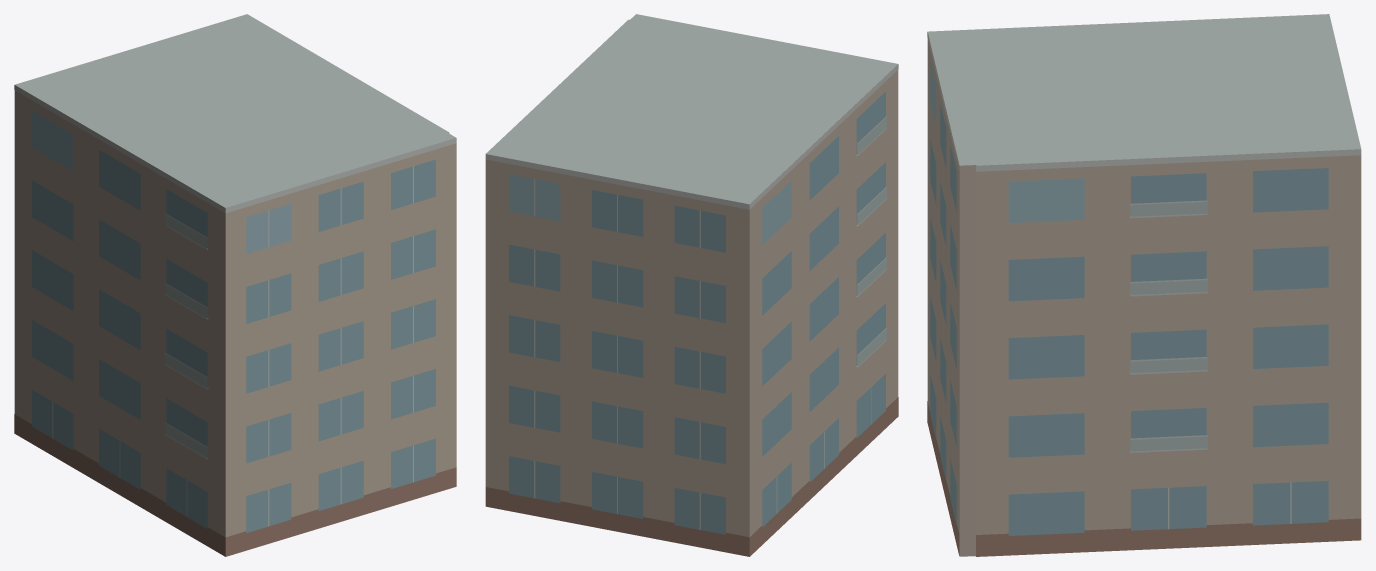
The model's file is survey-upis-32887748.glb.
3 renders of one model, left to right at view 1: azimuth 30°, elevation 25°; view 2: azimuth 150°, elevation 25°; view 3: azimuth 270°, elevation 25°, orthographic. The views are drawn at different scales.
Parts seen in each view (by area): view 1: survey-upis-32887748.tmp; view 2: survey-upis-32887748.tmp; view 3: survey-upis-32887748.tmp.
Part boxes in pixels (x1,y1,x2,y2): survey-upis-32887748.tmp: (14,14,456,556); survey-upis-32887748.tmp: (485,14,898,556); survey-upis-32887748.tmp: (927,14,1361,556).
Bounding box in the file's own units: 13.24 × 15.9 × 15.99.
